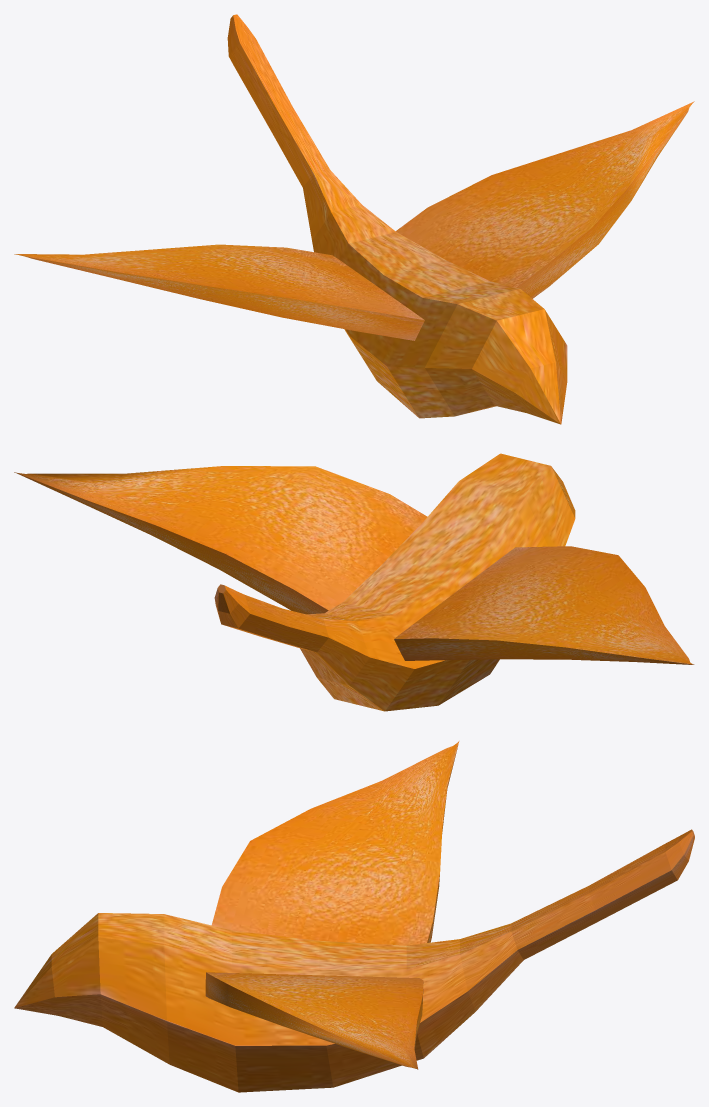
3 views of the same model, one above another, from view 1: azimuth 30°, elevation 25°; view 2: azimuth 150°, elevation 25°; view 3: azimuth 270°, elevation 25° (orthographic). The views are drawn at different scales.
Visible parts, largest first — view 1: Bird, Bird_LW, Bird_RW; view 2: Bird, Bird_LW, Bird_RW; view 3: Bird, Bird_RW, Bird_LW.
Boxes of the visible parts, <box> form: Bird: <box>227,14,567,424</box>; Bird_LW: <box>395,101,694,298</box>; Bird_RW: <box>14,244,424,340</box>; Bird: <box>214,453,575,711</box>; Bird_LW: <box>14,466,427,614</box>; Bird_RW: <box>394,546,694,664</box>; Bird: <box>14,829,694,1092</box>; Bird_RW: <box>211,741,459,945</box>; Bird_LW: <box>205,972,423,1069</box>.
Bounding box in the file's own units: 5.53 × 1.88 × 4.74.
Materials: 2 (2 with a texture image).
